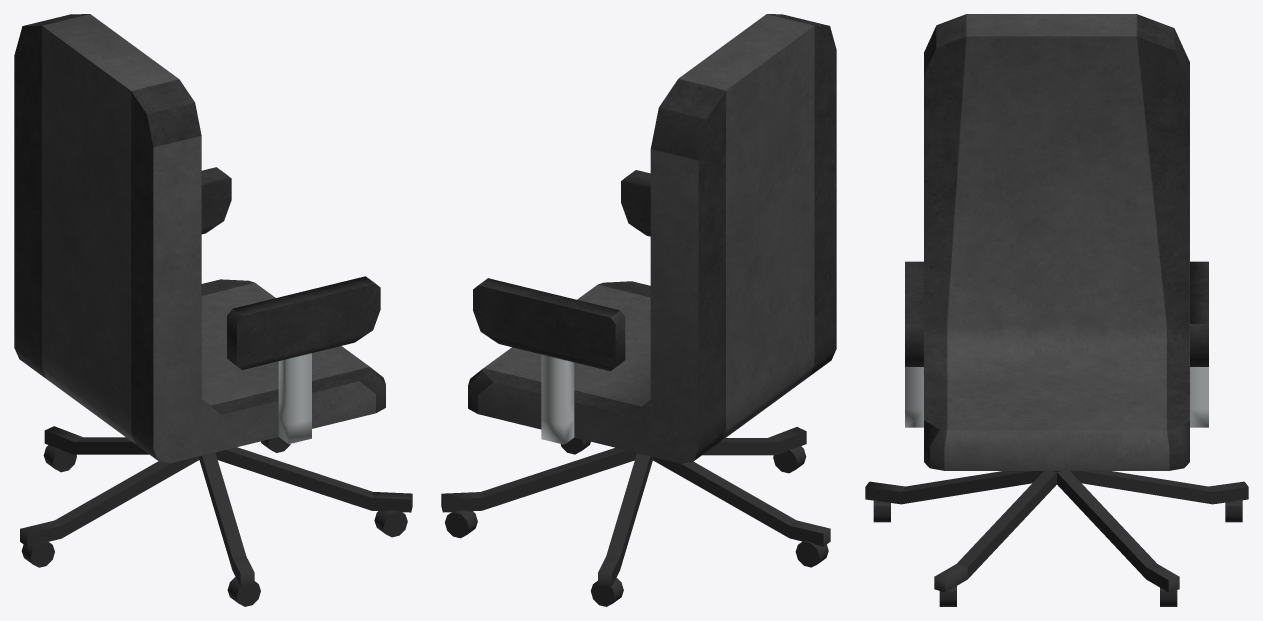
File: OfficeChair.gltf
3 views of the same model, side by side, from view 1: azimuth 30°, elevation 25°; view 2: azimuth 150°, elevation 25°; view 3: azimuth 270°, elevation 25° (orthographic). The views are drawn at different scales.
Visible parts, largest first — view 1: OfficeChair; view 2: OfficeChair; view 3: OfficeChair.
Part boxes in pixels (x1,y1,x2,y2): OfficeChair: (14,14,412,606); OfficeChair: (441,14,836,606); OfficeChair: (865,14,1248,606).
Bounding box in the file's own units: 1.39 × 2 × 1.47.
Materials: 1 (1 with a texture image).
